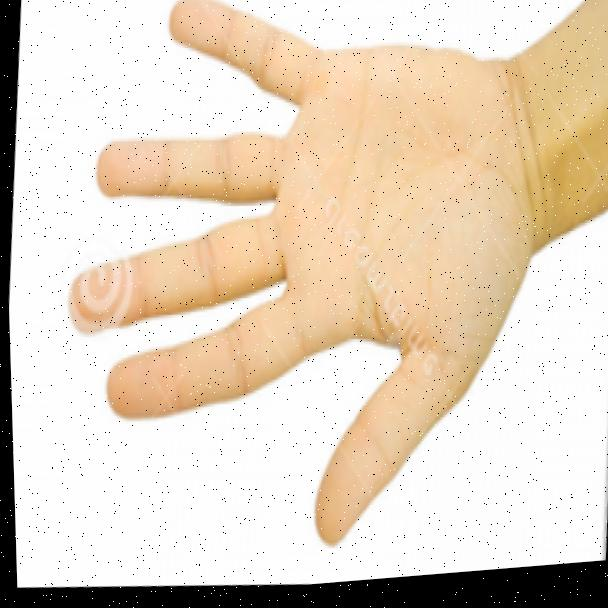five: (32, 0, 575, 589)
